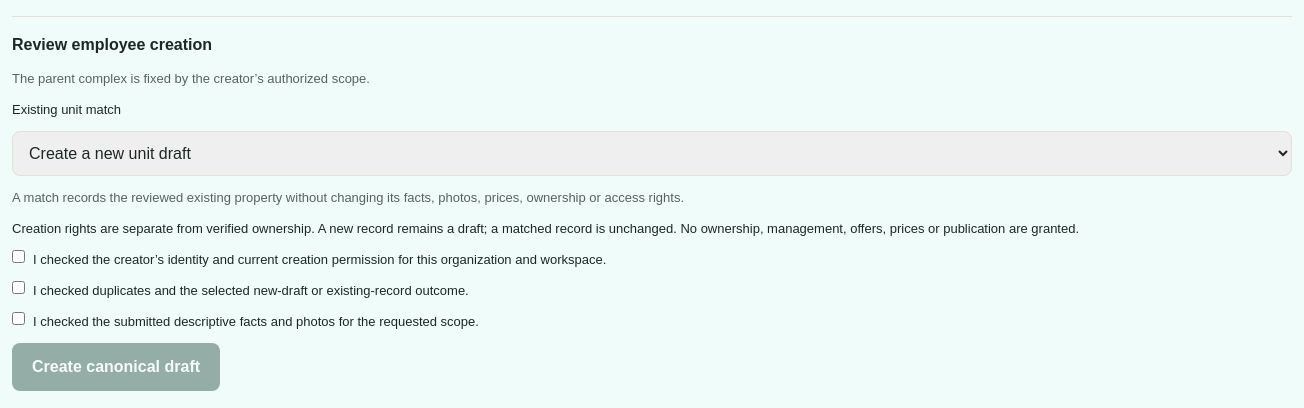
Test case: employee creation review › keeps the parent complex fixed and never exposes owner, engagement or merge controls
Expected: the number of dropdowns is 1, x1=12 y1=131 x2=1292 y2=176
Click the checkbox named "I checked the creator’s identity and current creation permission for this organization and workspace.": (18, 256) x1=12 y1=250 x2=25 y2=263
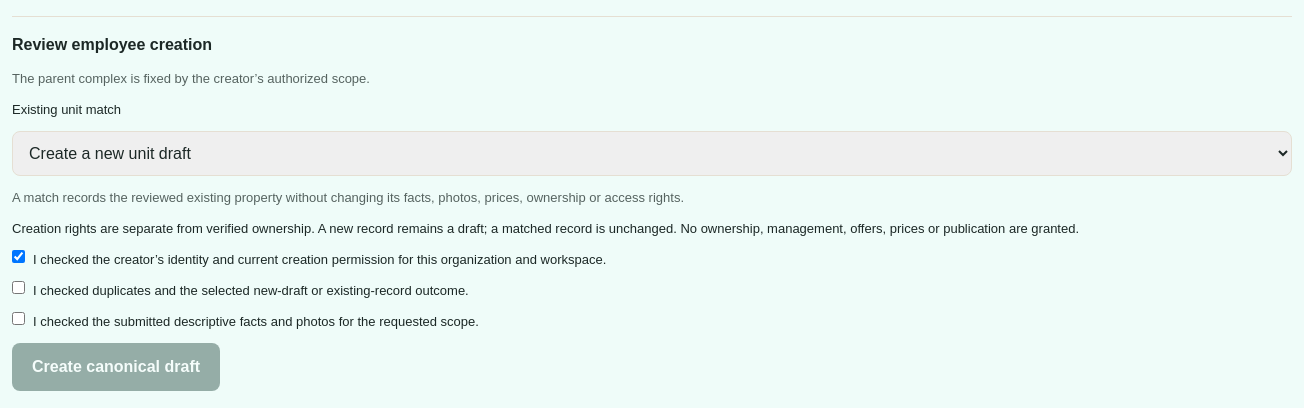
Click the checkbox labelled "I checked duplicates and the selected new-draft or existing-record outcome.": (18, 288) x1=12 y1=281 x2=25 y2=294
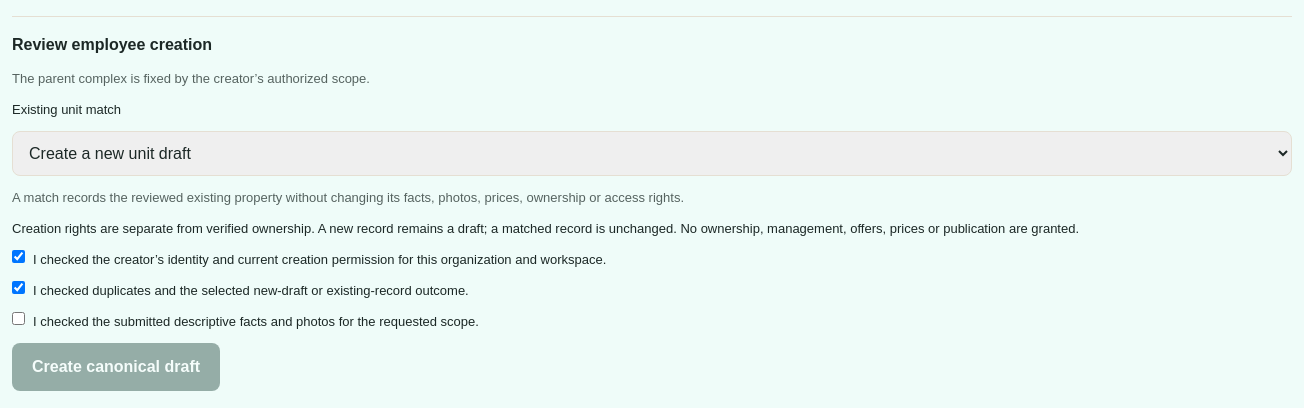
Click the checkbox labelled "I checked the submitted descriptive facts and photos for the requested scope.": (18, 318) x1=12 y1=312 x2=25 y2=325
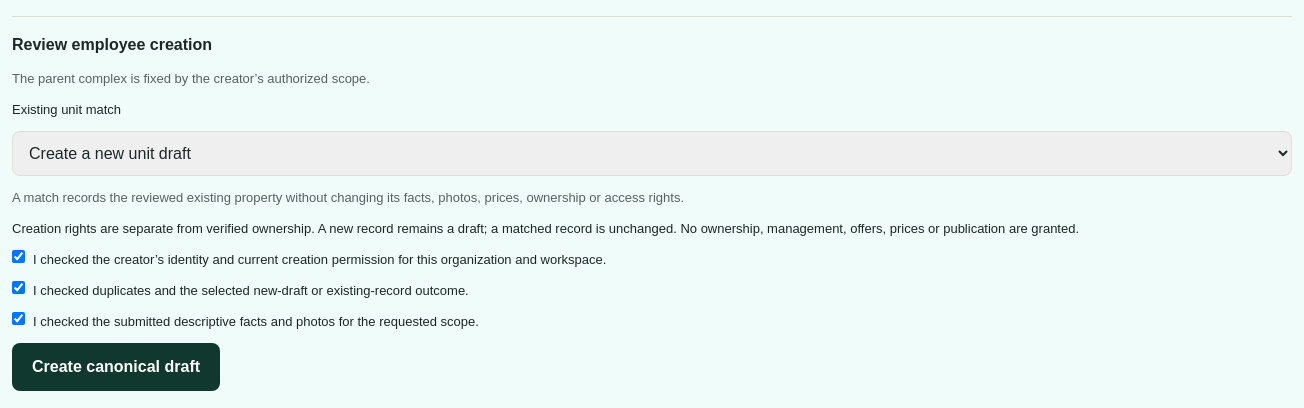
Click the button "Create canonical draft": (116, 367) x1=12 y1=343 x2=220 y2=391
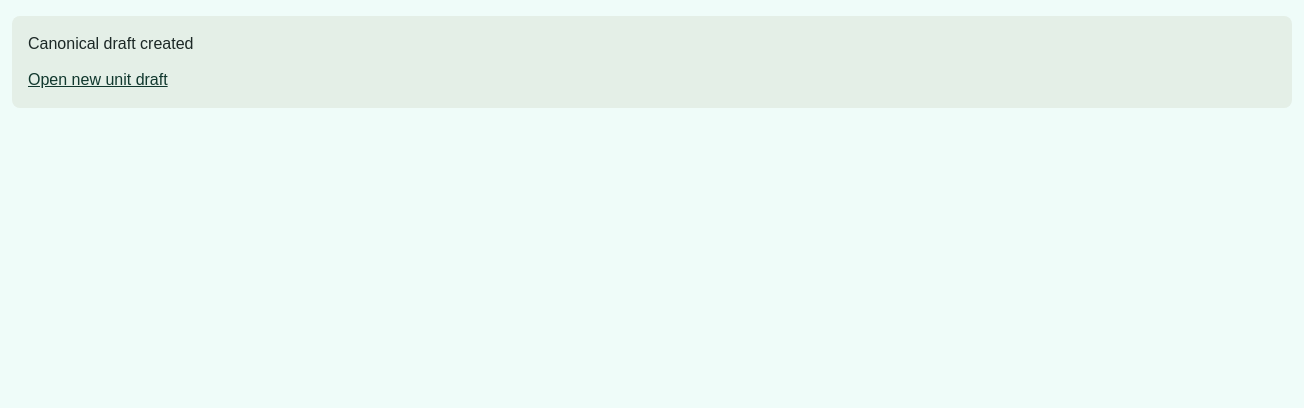
Expected: the text "Canonical draft created" is shown, x1=28 y1=35 x2=193 y2=52
